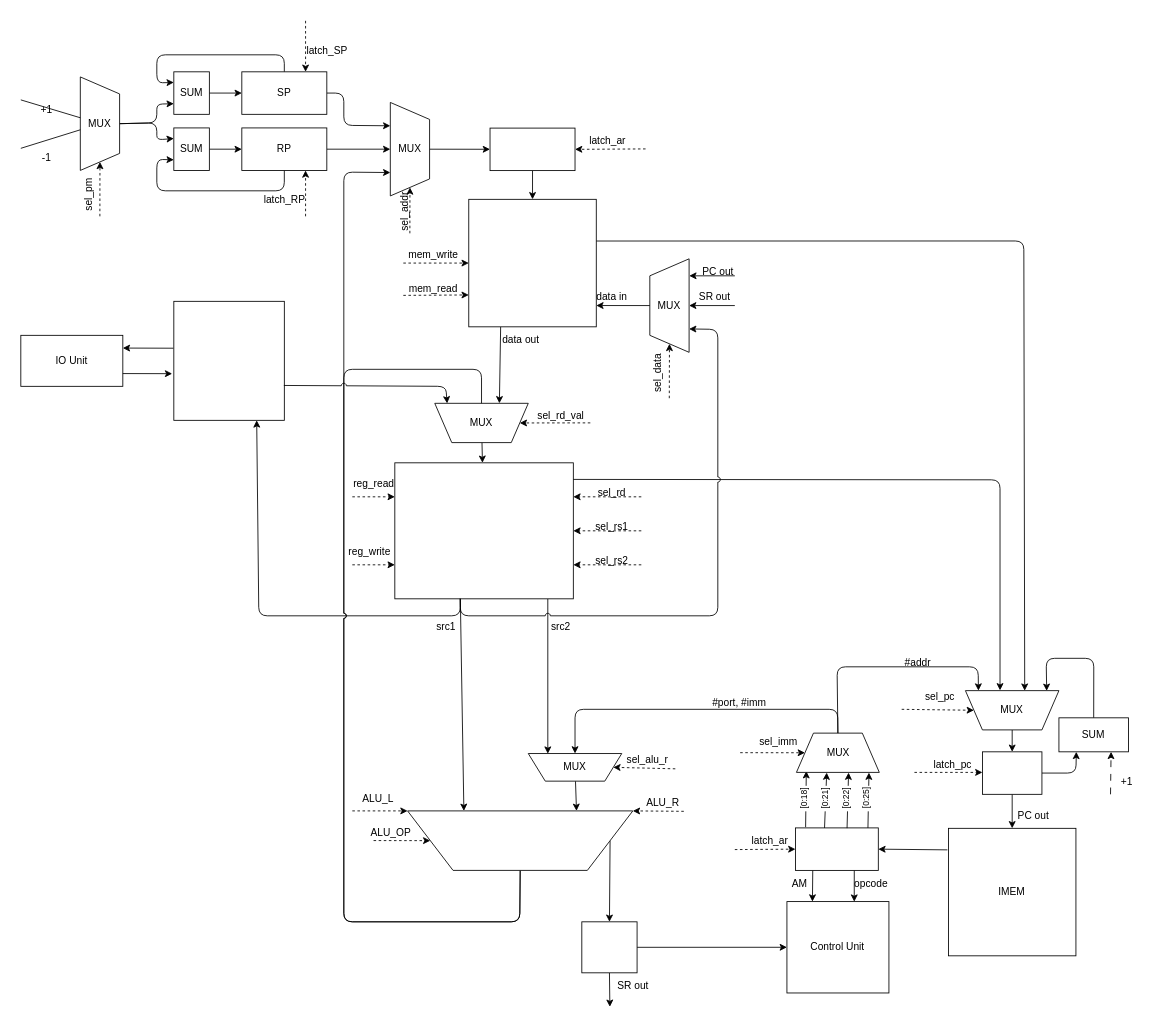
Image size: 1159x1029. Some labels were removed from this diagram. Here are the shapes that lost their labels. From the top down, the box of each, then its label:
(489, 127, 575, 171): AR
(468, 198, 596, 327): DMEM
(173, 300, 284, 420): IO Controller
(394, 462, 573, 599): REGISTER FILE
(982, 751, 1042, 794): PC
(407, 810, 633, 870): ALU
(795, 827, 878, 870): IR
(581, 921, 637, 973): SR (N,Z,IE)
